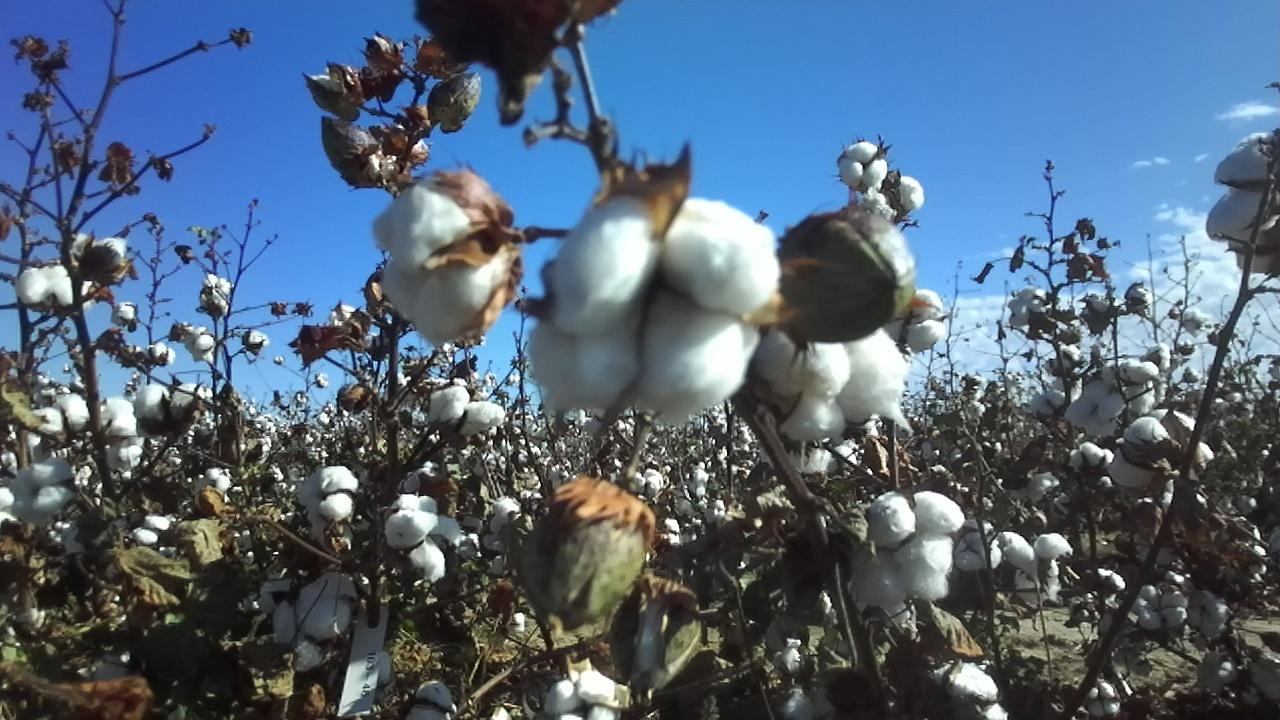cotton_ready: (524, 197, 779, 418), (370, 186, 513, 348), (759, 322, 913, 445), (854, 490, 964, 609), (1208, 132, 1280, 273), (269, 573, 359, 673), (380, 491, 463, 584), (841, 209, 915, 303), (1110, 417, 1176, 508), (998, 530, 1074, 607), (934, 660, 1014, 720), (10, 458, 73, 524), (1159, 409, 1215, 483), (297, 464, 359, 528), (430, 388, 506, 440), (545, 671, 624, 720), (16, 263, 93, 313), (1069, 375, 1125, 436), (99, 396, 143, 473), (1129, 582, 1189, 635), (890, 293, 944, 349), (1105, 360, 1161, 414), (135, 381, 204, 423), (26, 393, 89, 433), (1187, 588, 1230, 643), (958, 520, 1000, 573), (68, 231, 129, 266), (841, 144, 885, 192), (406, 678, 454, 720), (782, 685, 838, 720), (1008, 287, 1045, 328), (133, 514, 175, 548), (1070, 440, 1113, 473), (1086, 682, 1123, 715), (1028, 390, 1069, 418), (0, 476, 19, 534), (896, 180, 928, 212)
